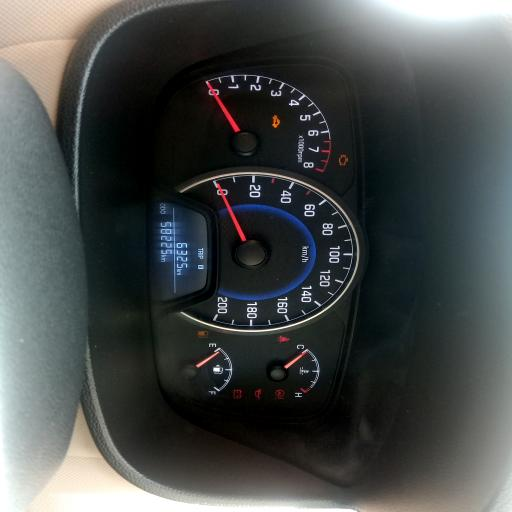belt: (278, 336, 290, 342)
check_engine: (340, 153, 348, 167)
oil: (254, 389, 262, 399)
tachometer: (187, 73, 343, 171)
vehicle_charging: (232, 390, 242, 398)
